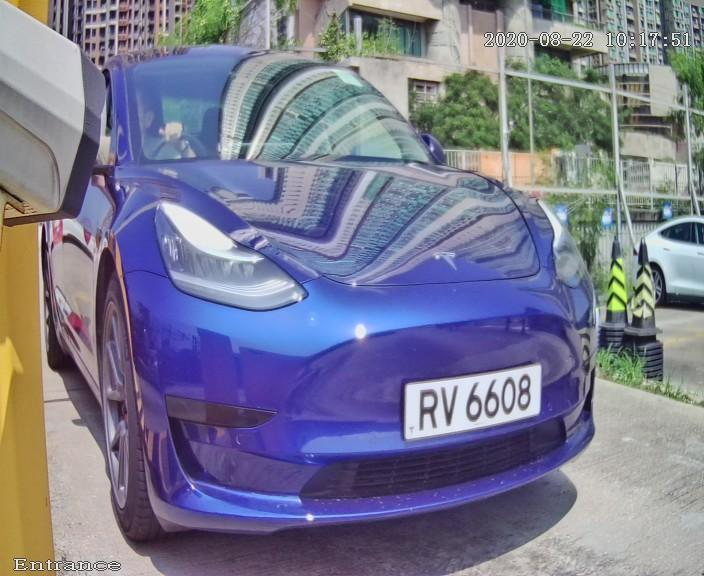Car: (1, 1, 657, 576)
License Plate: (394, 339, 553, 456)
